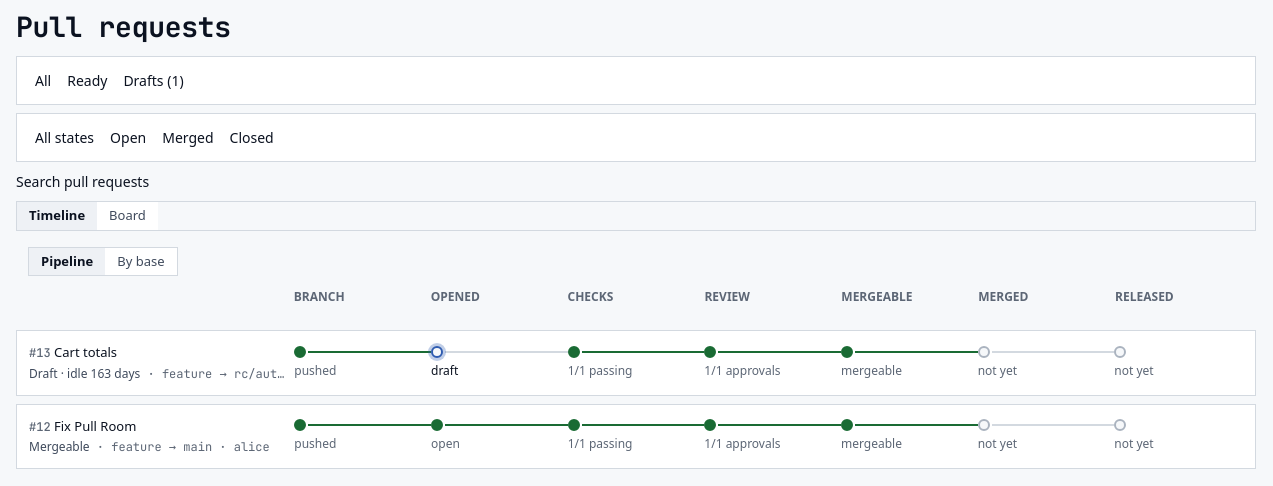
Scenario: RepositoryPullRequestsPage › lists a draft with its badge and its non-main base, and filters on it
Check: the link "#13 Cart totals" is shown, box [29,343,117,361]
Check: the link "#12 Fix Pull Room" is shown, box [29,416,136,434]
// Drafts only, and then the ones offered for review.
Click the button with test id "pull-filter-drafts" at coordinates (154, 80), box [117,69,190,92]
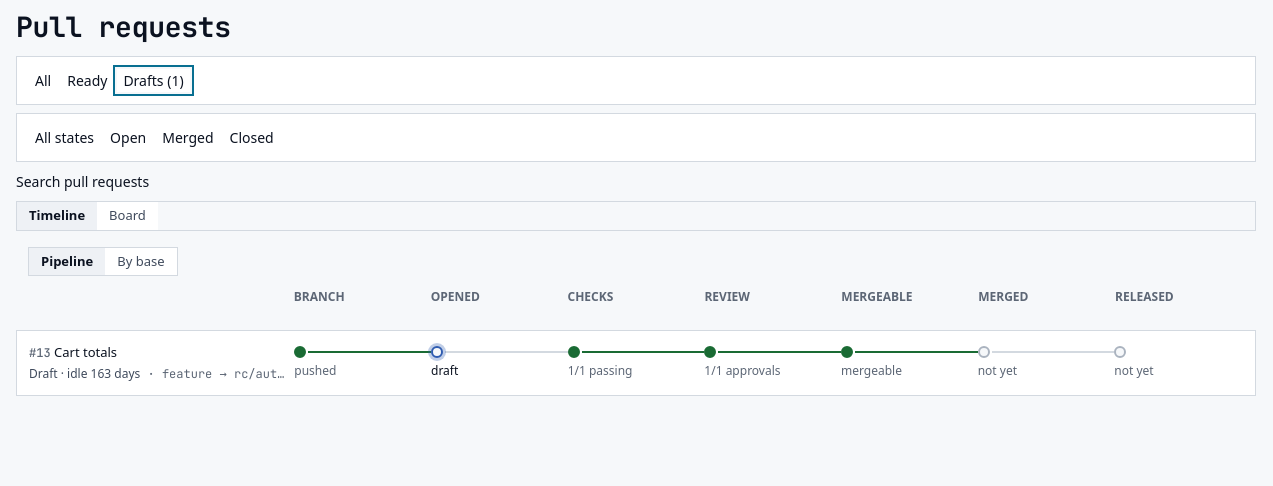
Check: the link "#13 Cart totals" is shown, box [29,343,117,361]
Check: the link "Fix Pull Room" is gone
Click the button with test id "pull-filter-ready" at coordinates (87, 80), box [61,69,113,92]
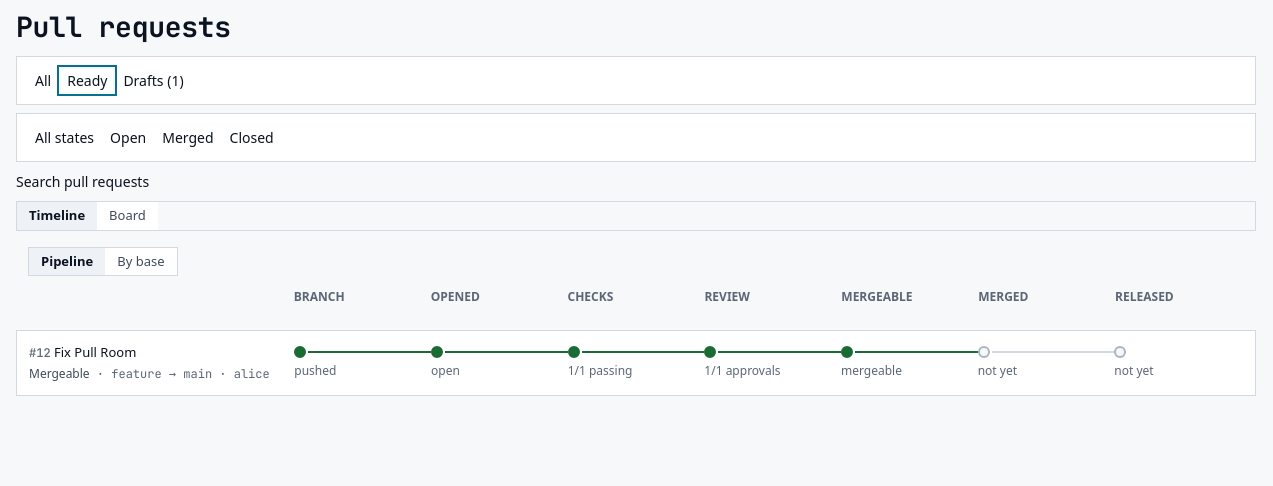
Check: the link "Cart totals" is gone
Check: the link "#12 Fix Pull Room" is shown, box [29,343,136,361]
